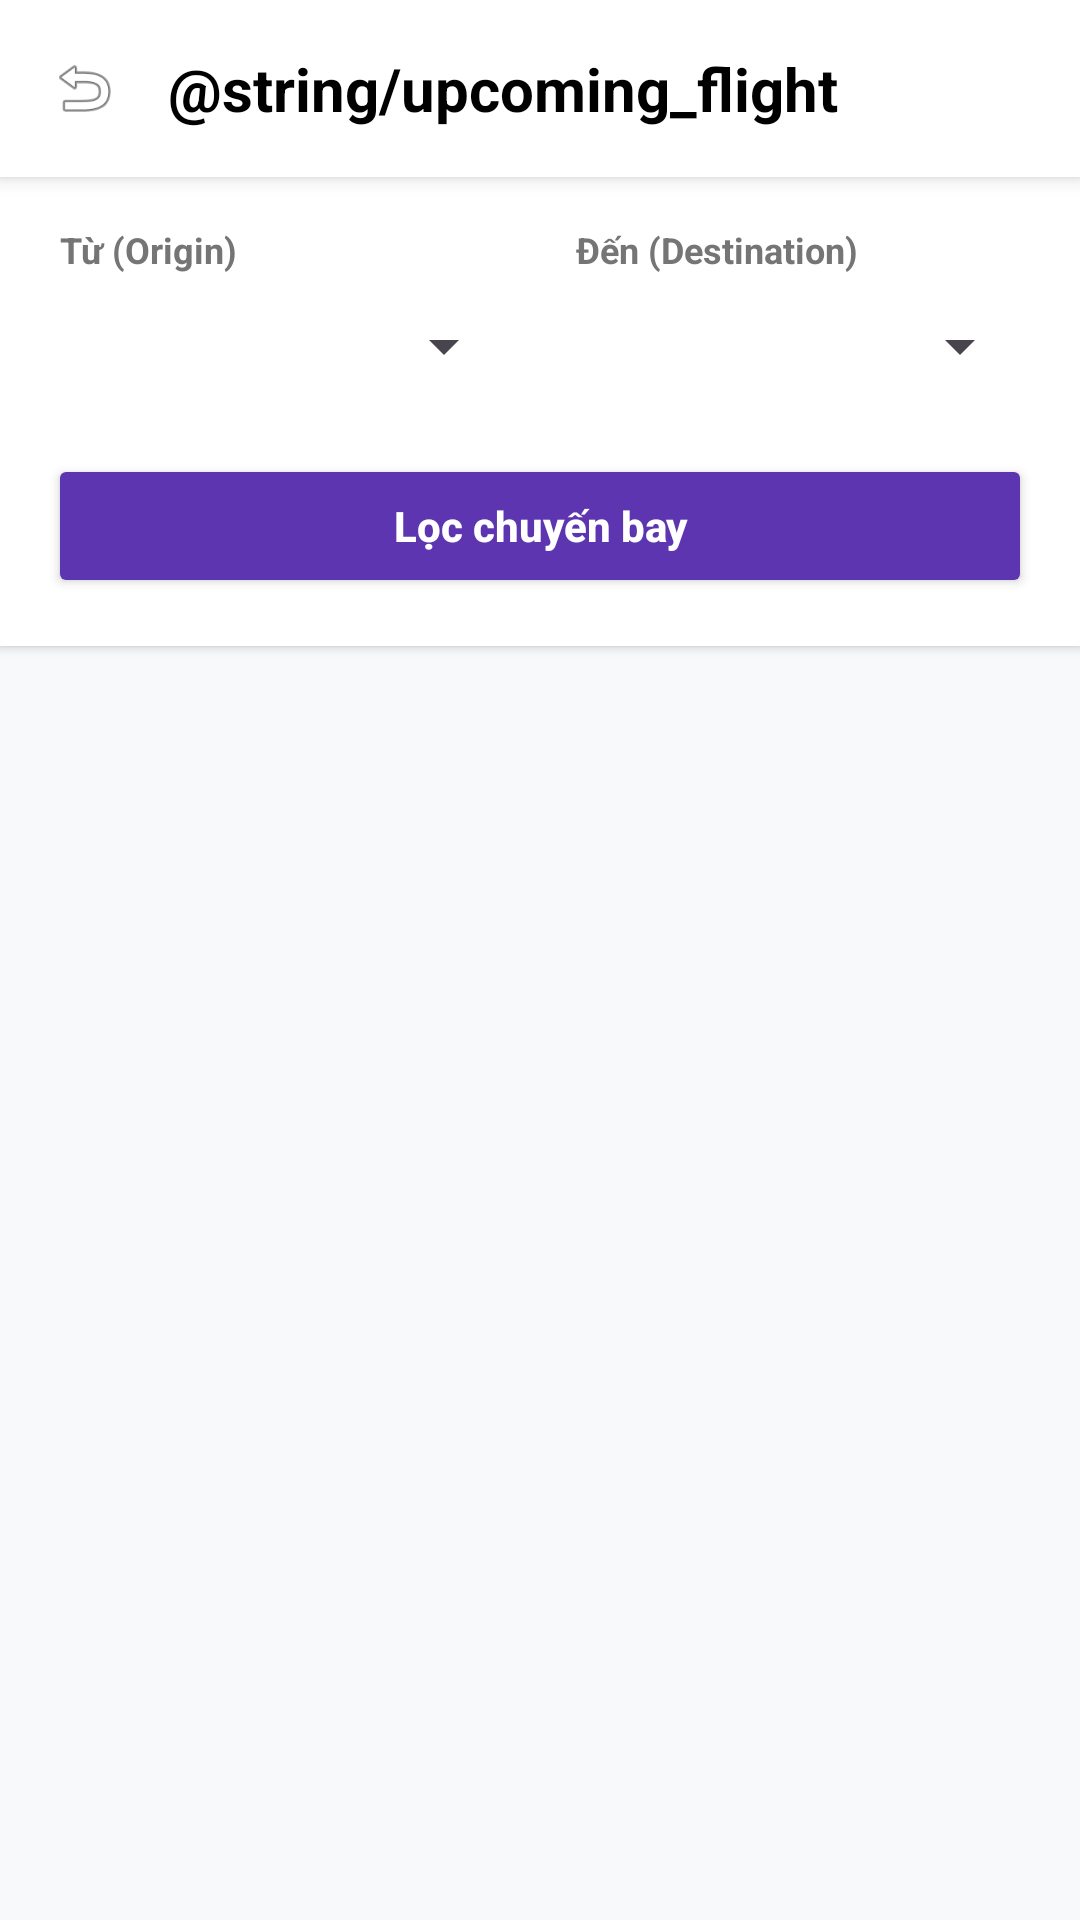

Icon bounding boxes for this 1080w x 1920h phone screenshot, format (x1,y1,x2,y2):
revert: (59,65,111,112)
